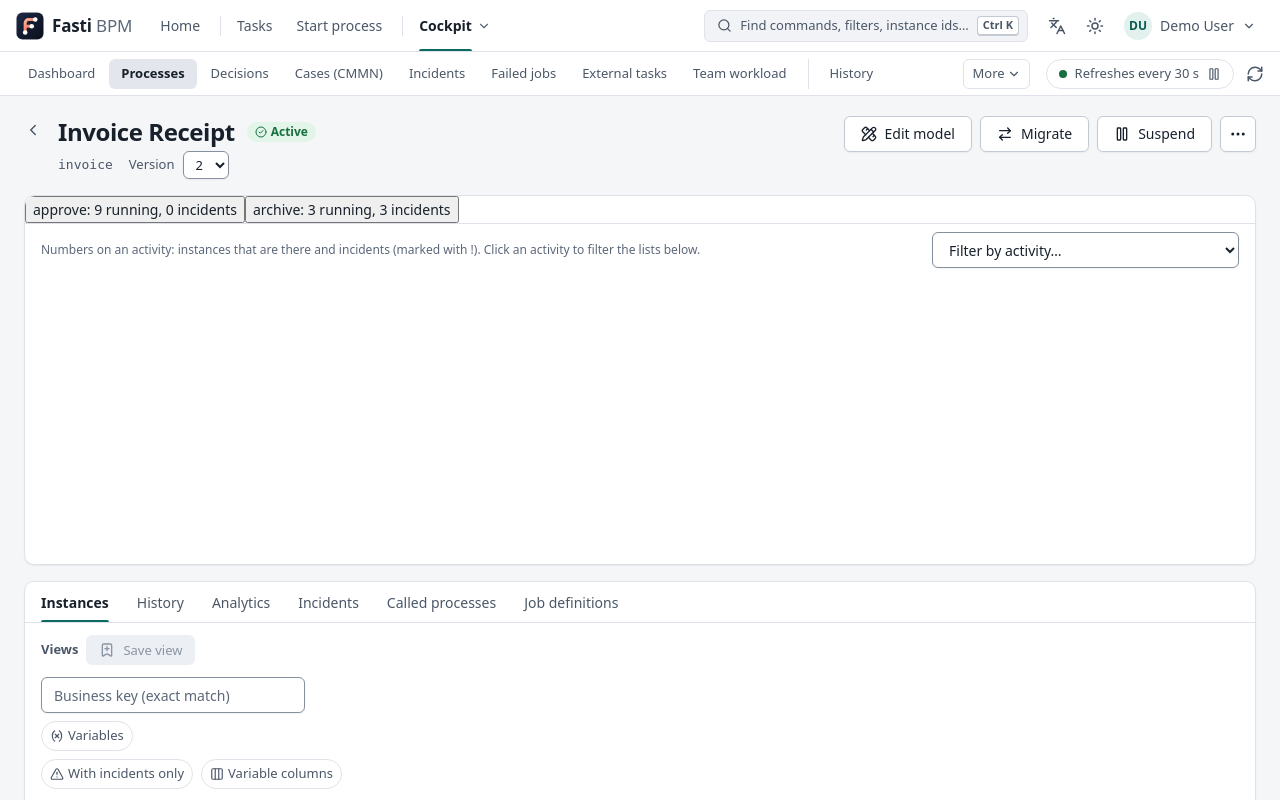
Test: process definition › filters the instances by a variable
Click the button "Variables".
click(87, 736)  # box [41, 721, 133, 751]
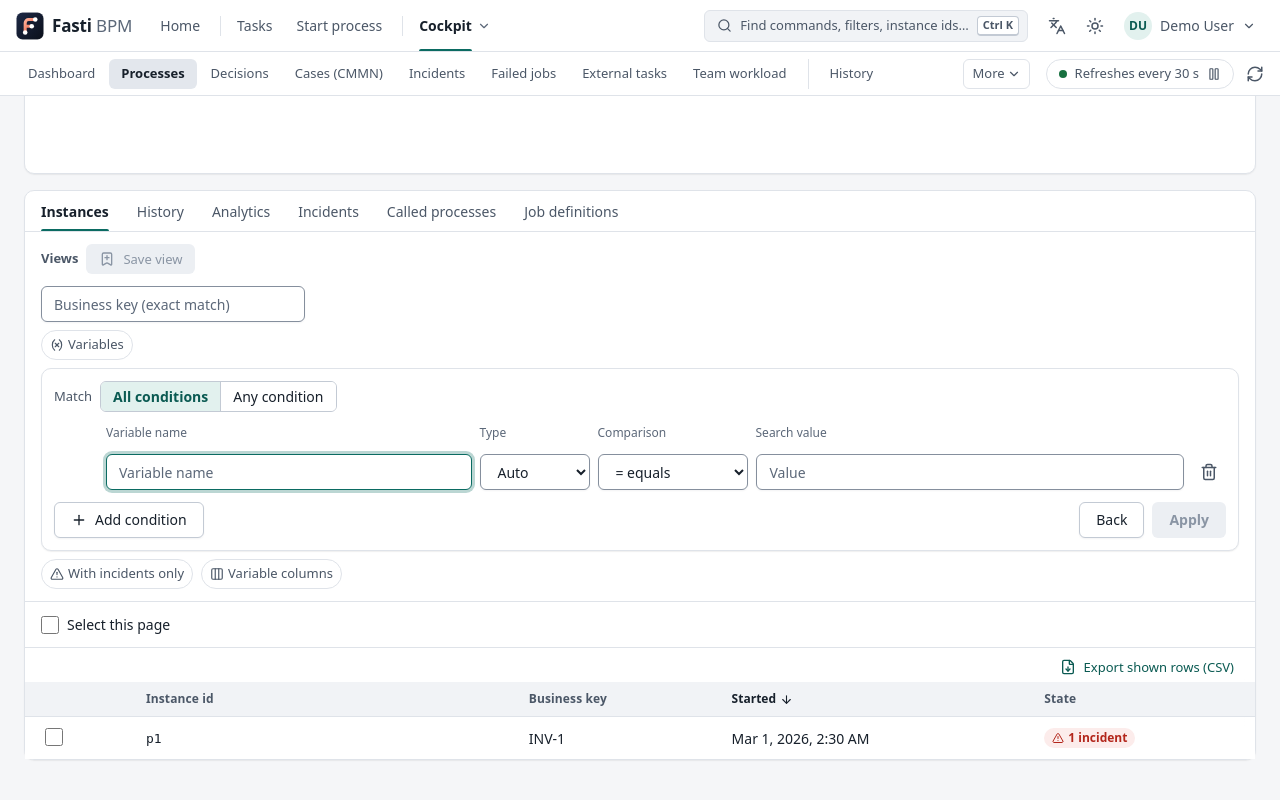
Type "amount" into the field named "Variable name, row 1".
click(289, 472); type("amount")  # box [106, 454, 472, 490]
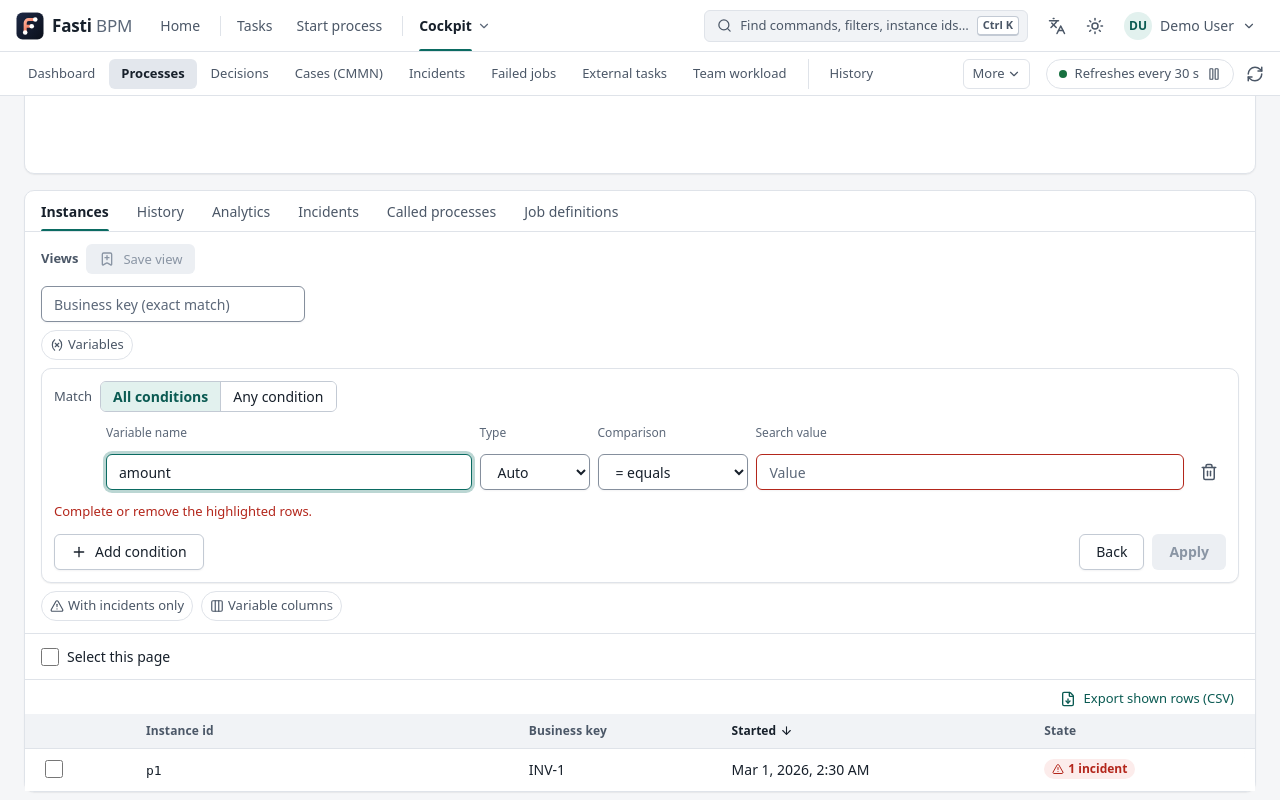
Select "≥ at least" in the dropdown named "Comparison, row 1" at (674, 472), box [598, 454, 748, 490]
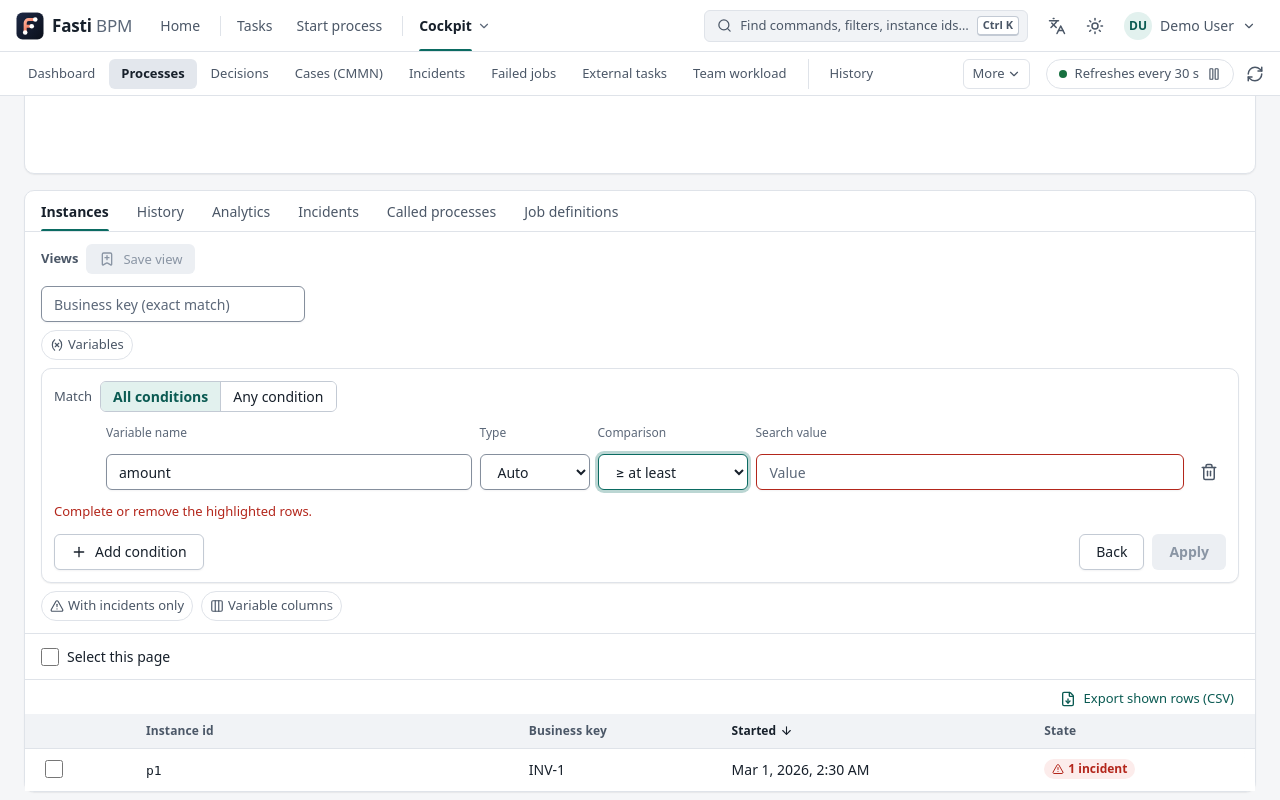
Type "100" into the field named "Value, row 1".
click(970, 472); type("100")  # box [756, 454, 1184, 490]
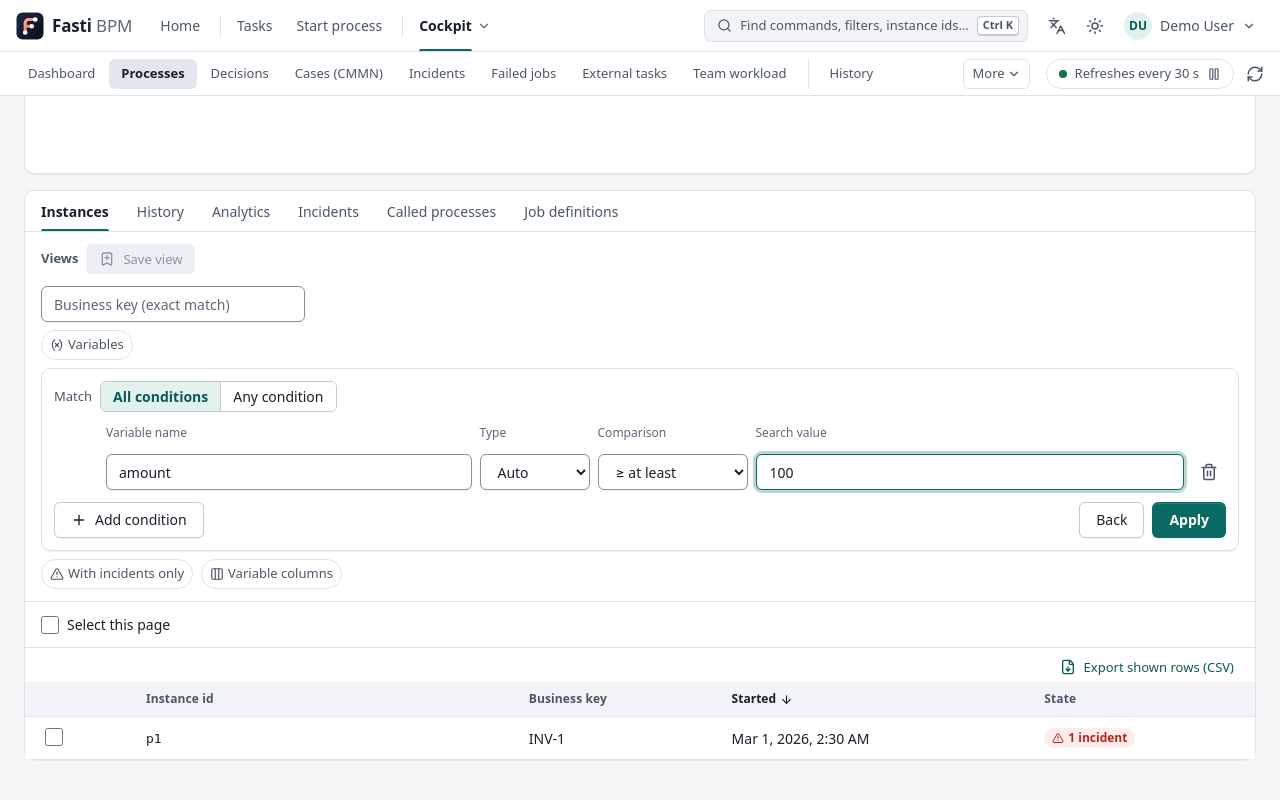
Click the button "Apply".
click(1189, 520)  # box [1152, 502, 1226, 538]
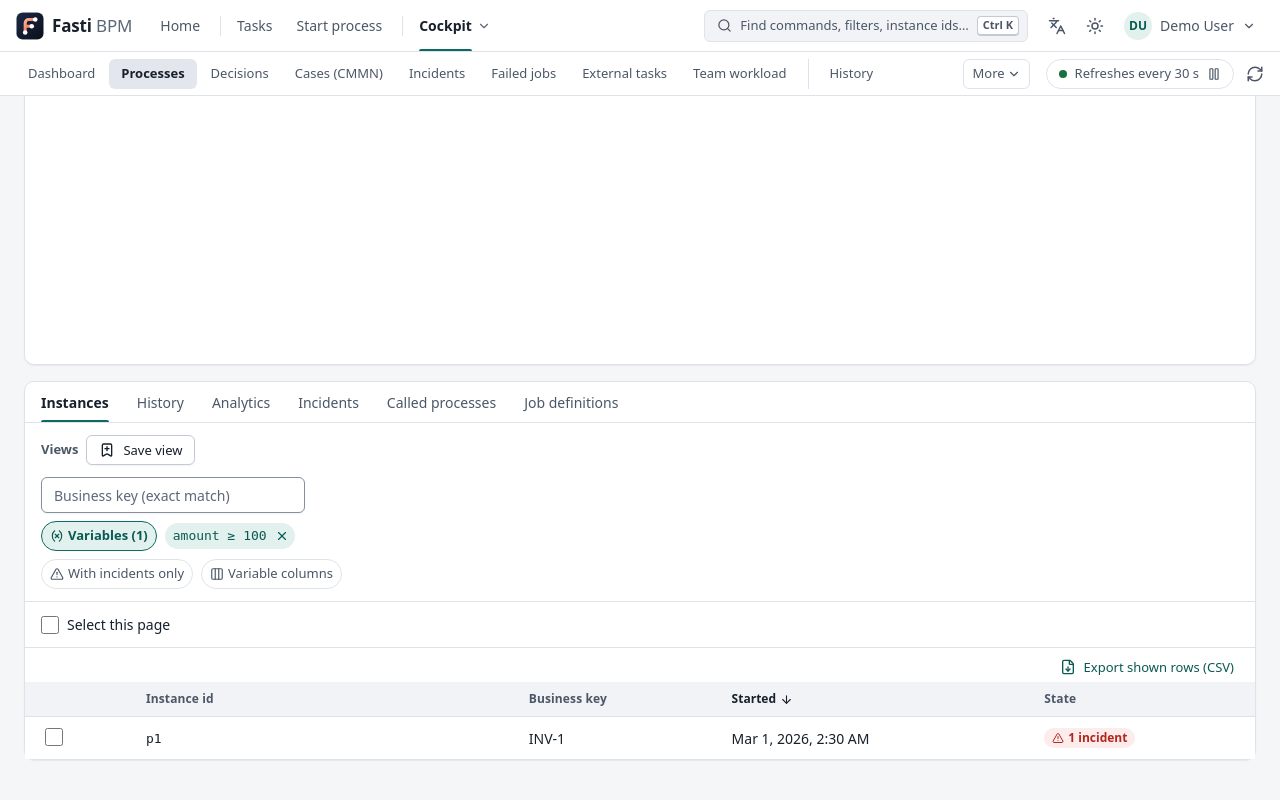
Expected: the text "amount ≥ 100" is shown, [173, 526, 267, 546]
